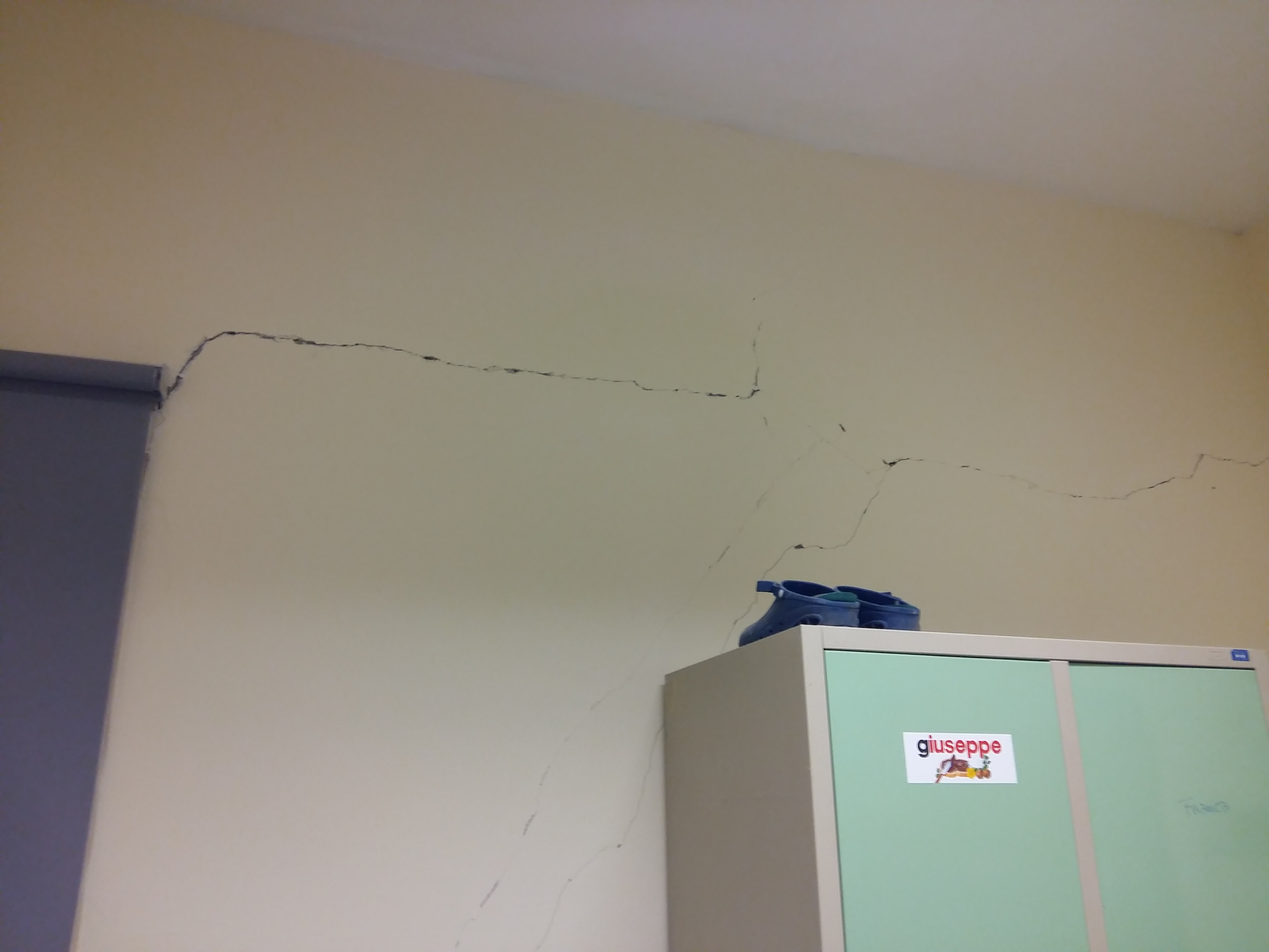Crack: (105, 166, 1268, 947)
